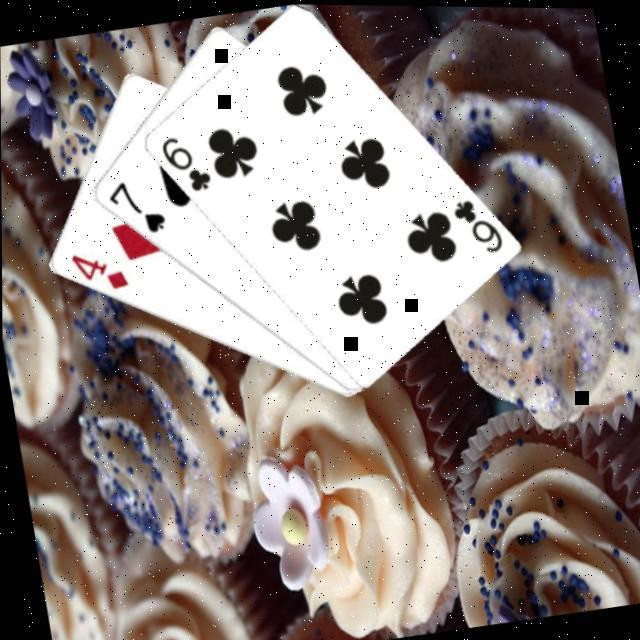4D: (63, 244, 130, 302)
6C: (154, 130, 213, 202), (446, 192, 505, 262)
7S: (100, 174, 168, 244)
